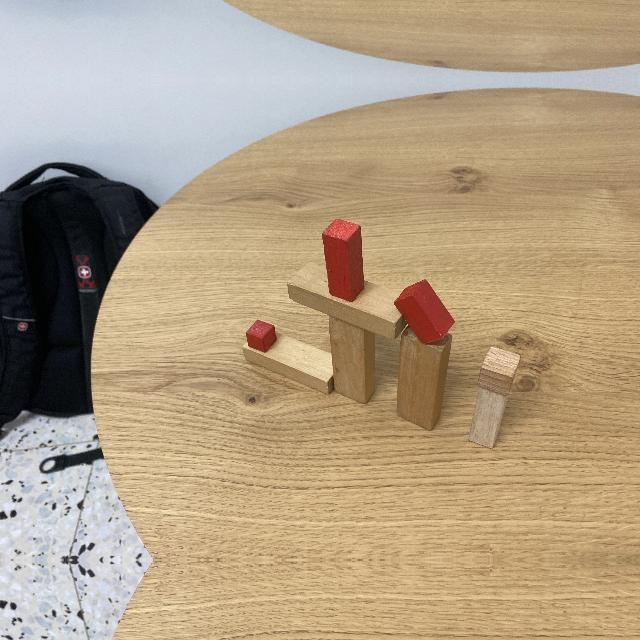block: (469, 388, 508, 449)
cube: (478, 347, 520, 396)
jenga: (288, 263, 401, 339), (242, 331, 334, 394), (397, 329, 452, 431), (327, 315, 376, 405)
red block: (394, 280, 455, 344)
red cube: (246, 320, 277, 352)
